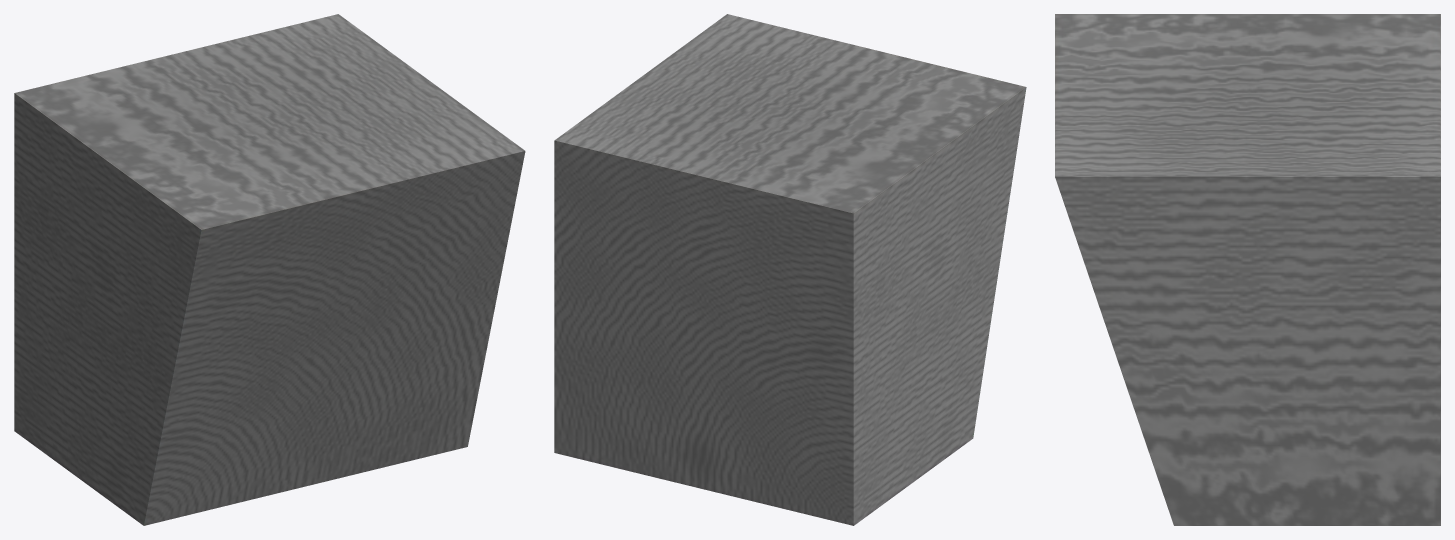
3 views of the same model, side by side, from view 1: azimuth 30°, elevation 25°; view 2: azimuth 150°, elevation 25°; view 3: azimuth 270°, elevation 25° (orthographic). The views are drawn at different scales.
Parts seen in each view (by area): view 1: 1; view 2: 1; view 3: 1.
Boxes of the visible parts, x1,y1,x2,y2 form: 1: [14, 14, 525, 525]; 1: [554, 14, 1026, 525]; 1: [1055, 14, 1440, 525].
Bounding box in the file's own units: 2 × 1.99 × 2.
1 material, 1 textured.
